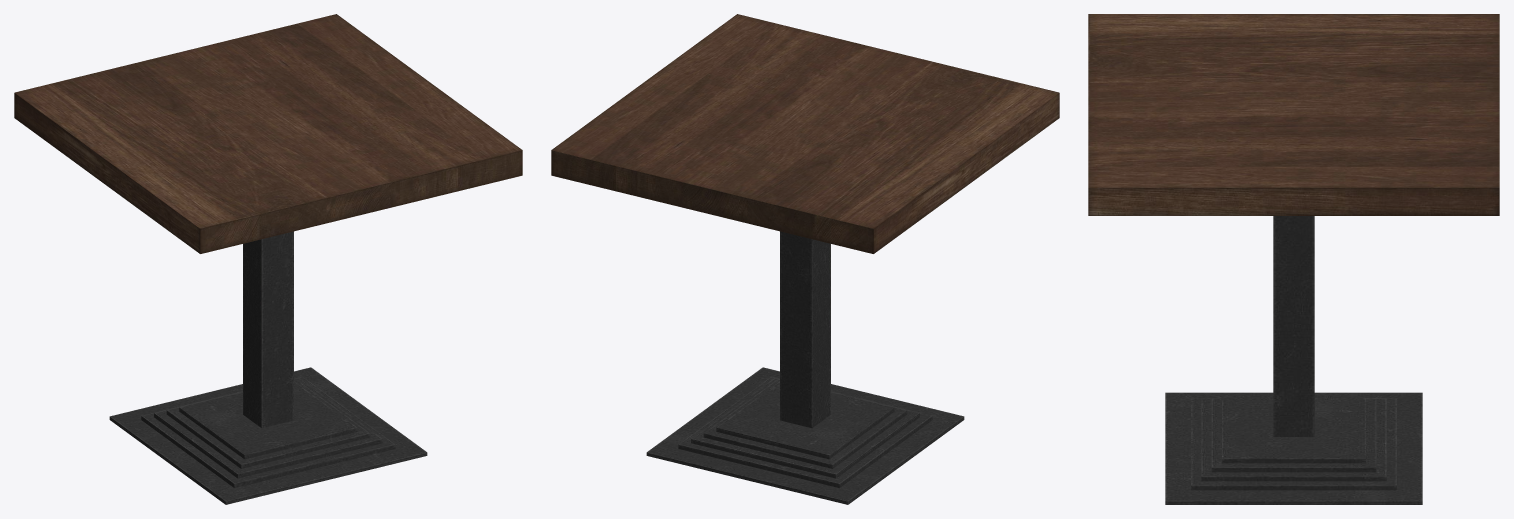
The model's file is table.fbx.
3 renders of one model, left to right at view 1: azimuth 30°, elevation 25°; view 2: azimuth 150°, elevation 25°; view 3: azimuth 270°, elevation 25°, orthographic. The views are drawn at different scales.
Visible parts, largest first — view 1: Tavolo; view 2: Tavolo; view 3: Tavolo.
Part boxes in pixels (<box>): Tavolo: <box>14,14,522,504</box>; Tavolo: <box>551,14,1059,504</box>; Tavolo: <box>1088,14,1499,504</box>.
Size of the model in its own units: 80 by 75 by 80.
